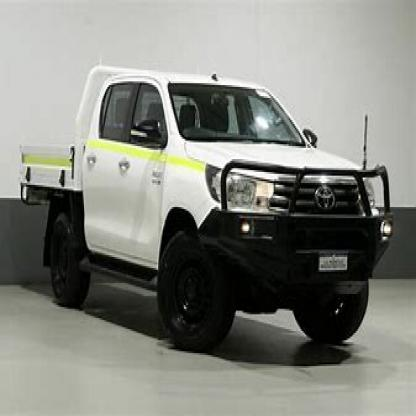light_vehicle: (16, 50, 409, 353)
